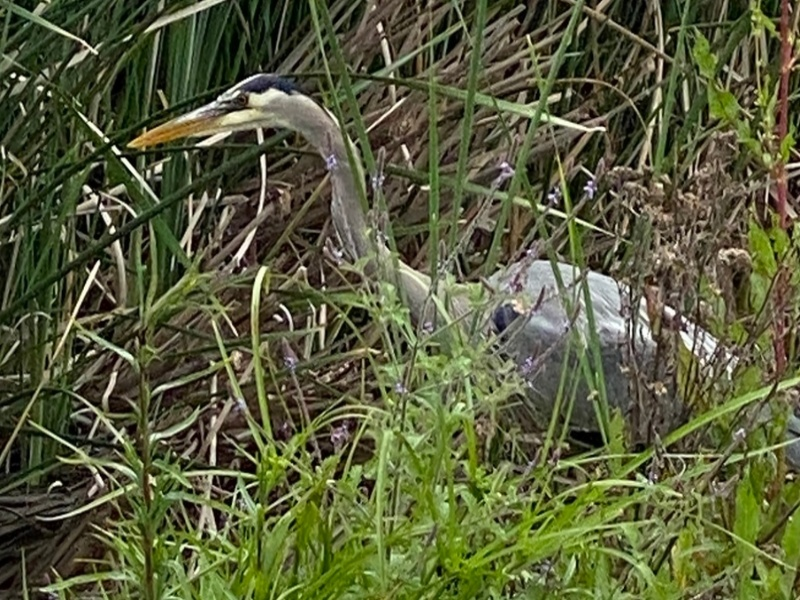heron: (124, 72, 754, 446)
